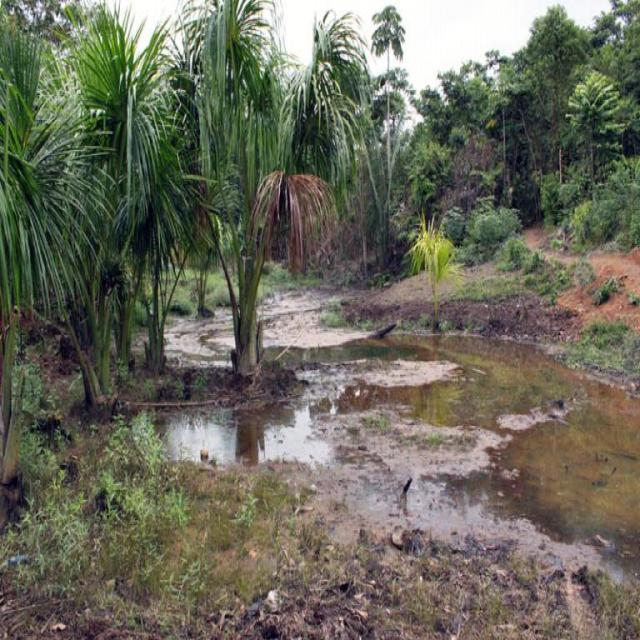flood: (158, 313, 640, 575)
